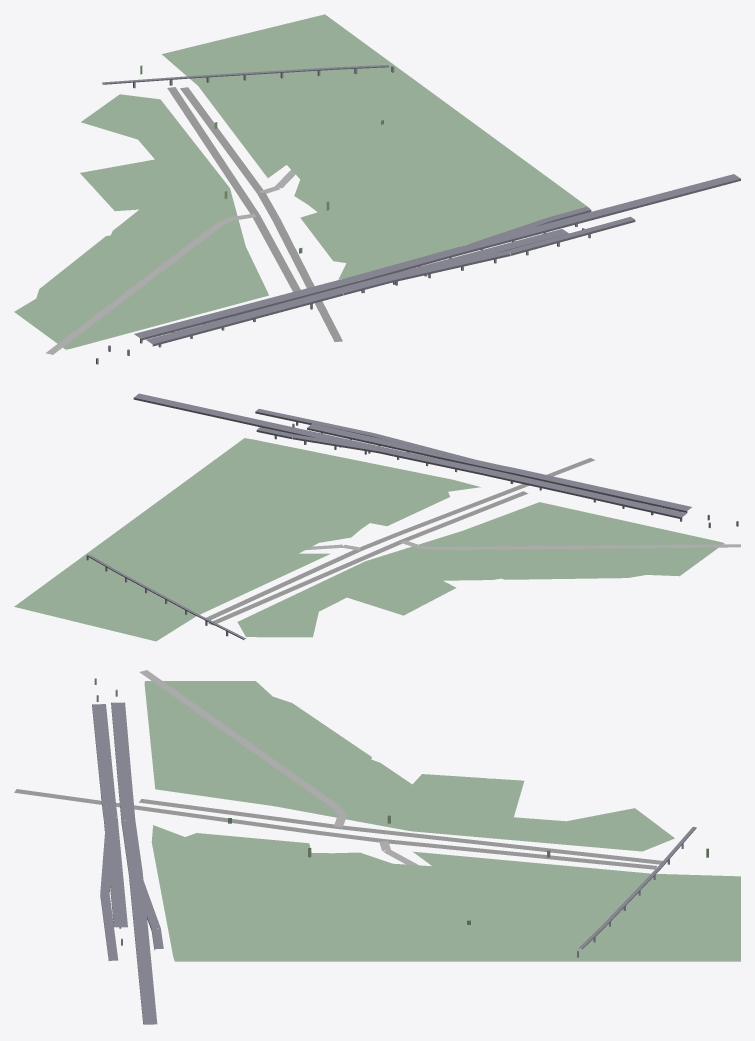
3 views of the same model, one above another, from view 1: azimuth 30°, elevation 25°; view 2: azimuth 150°, elevation 25°; view 3: azimuth 270°, elevation 25° (orthographic). The views are drawn at different scales.
Bounding box in the file's own units: 645 × 8.44 × 548.
